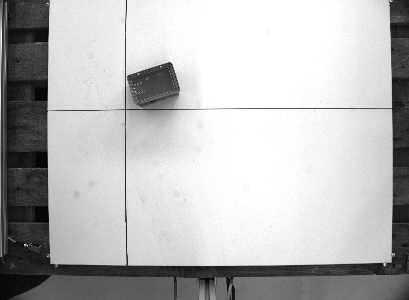kltxs: (123, 59, 184, 108)
